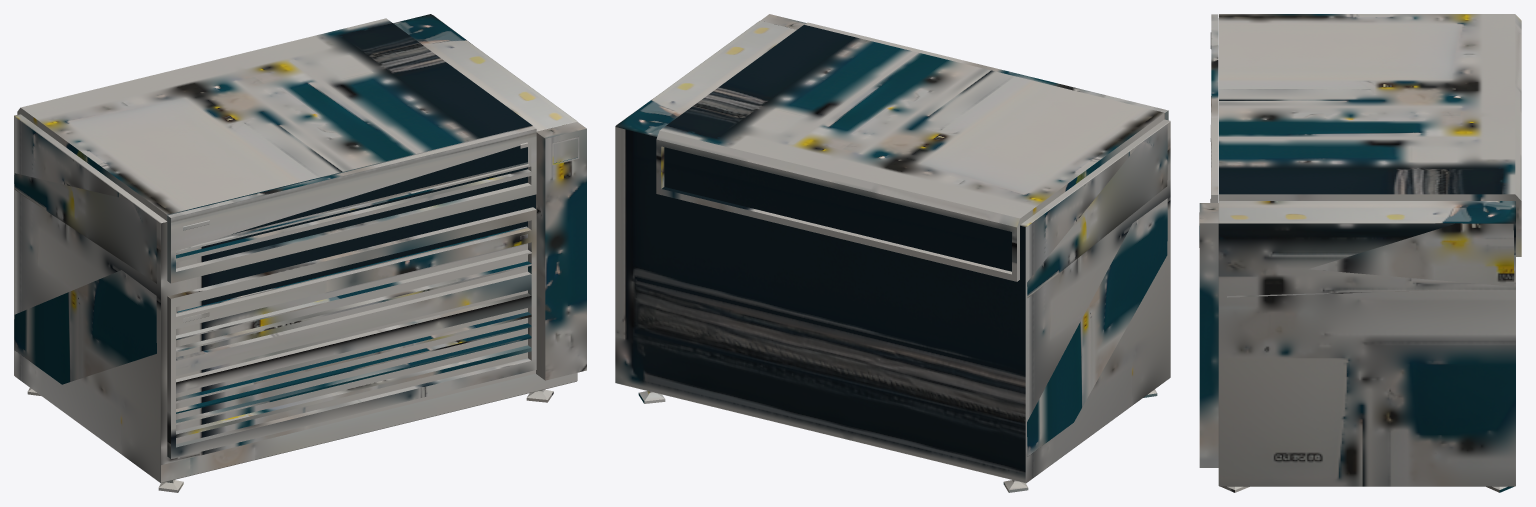
File: Mechanism.fbx
The picture shows the model from 3 angles, left to right: view 1: azimuth 30°, elevation 25°; view 2: azimuth 150°, elevation 25°; view 3: azimuth 270°, elevation 25°; orthographic projection. The views are drawn at different scales.
Visible parts, largest first — view 1: texture_pbr_v128.001; view 2: texture_pbr_v128.001; view 3: texture_pbr_v128.001.
Part boxes in pixels (box(x1,y1,x2,y2)): texture_pbr_v128.001: box(14, 14, 586, 492); texture_pbr_v128.001: box(615, 14, 1170, 492); texture_pbr_v128.001: box(1199, 14, 1521, 492).
Size of the model in its own units: 89.41 by 57.51 by 59.11.
